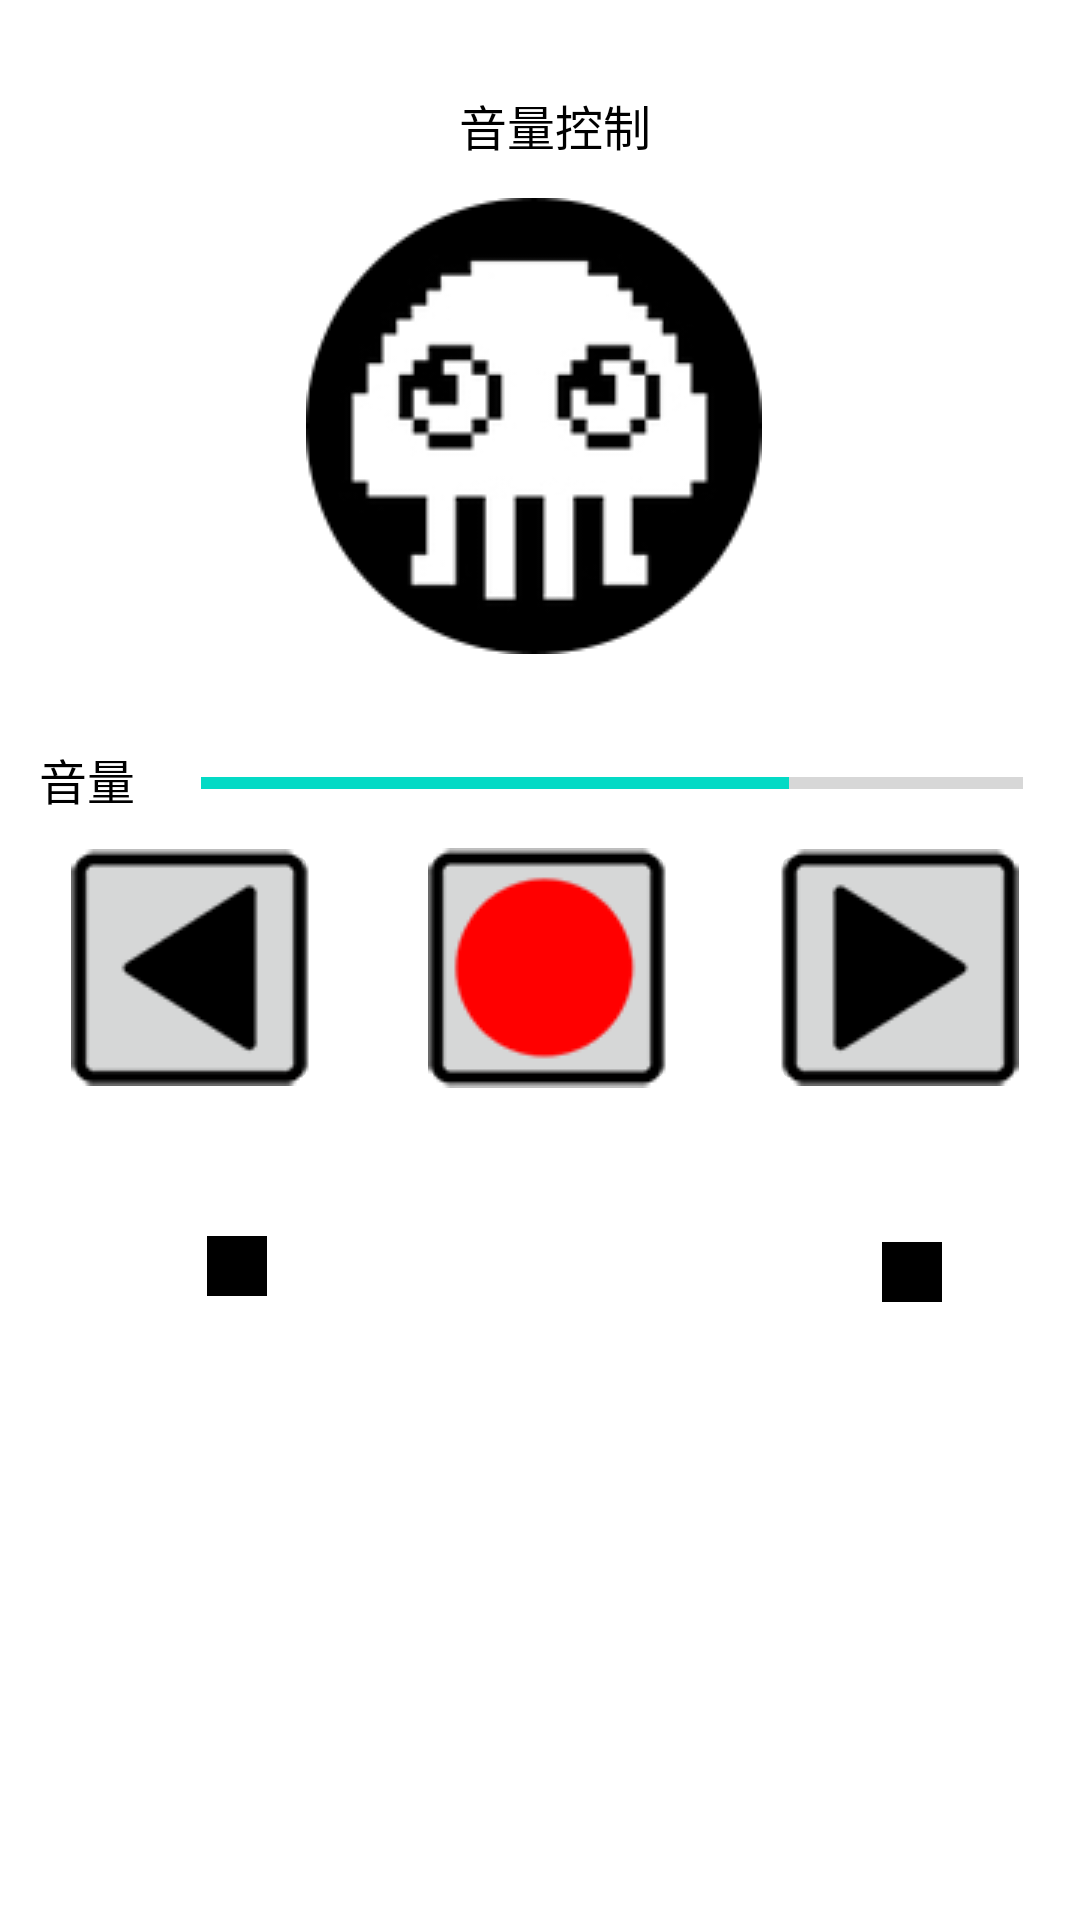

Locate icon controls on the screen. Image size 1080px x 1920px, boxes as (x1,y1,x2,y2).
arrow: (71,849,309,1086), (781,849,1019,1086)
